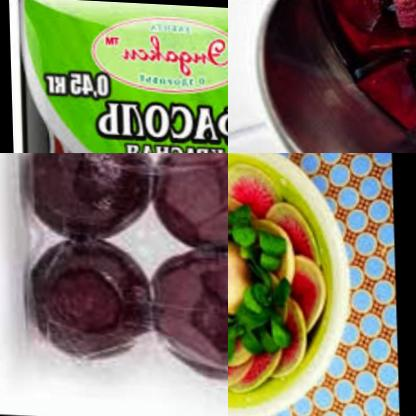beet: (24, 228, 158, 363), (313, 0, 416, 153), (141, 237, 228, 384), (25, 153, 152, 245), (150, 153, 228, 253)
redka: (228, 153, 319, 401), (228, 233, 244, 314)
